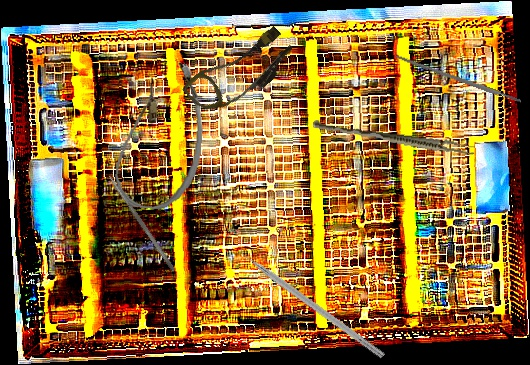Cannula: (112, 58, 209, 213), (180, 15, 301, 129)
Chopper: (229, 235, 392, 360)
Scalpel Handle: (394, 53, 522, 105)
Spatula Surgical: (106, 173, 177, 273)
Tissue Forceps: (311, 119, 476, 157)
